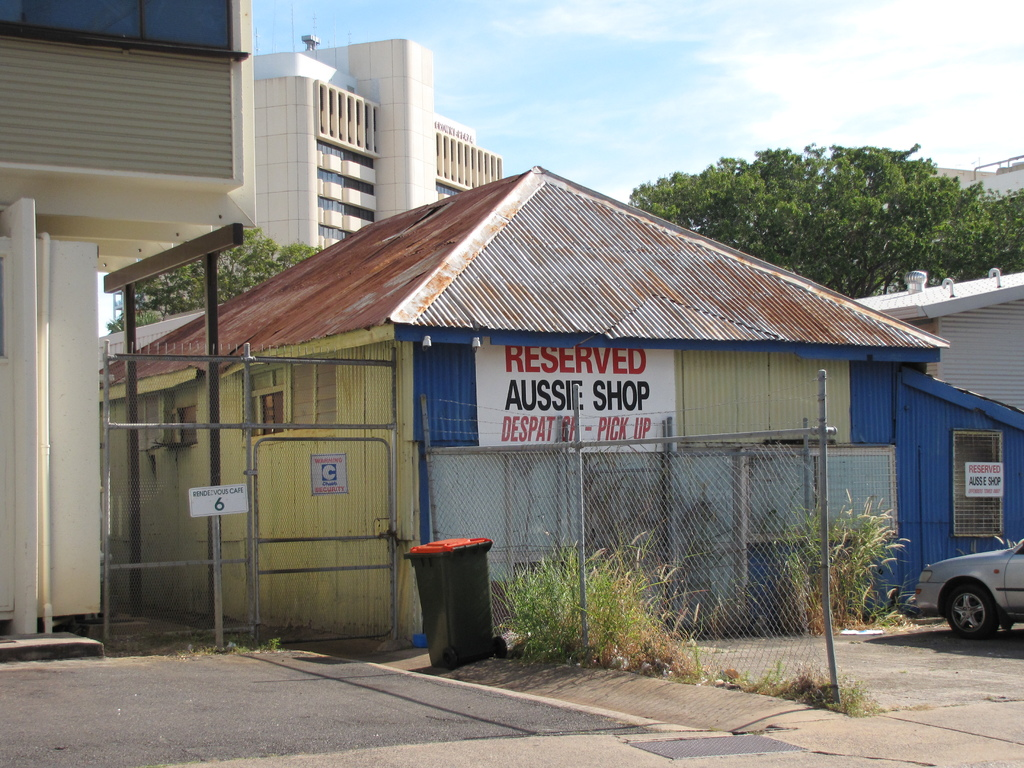mobil: (895, 516, 1024, 648)
